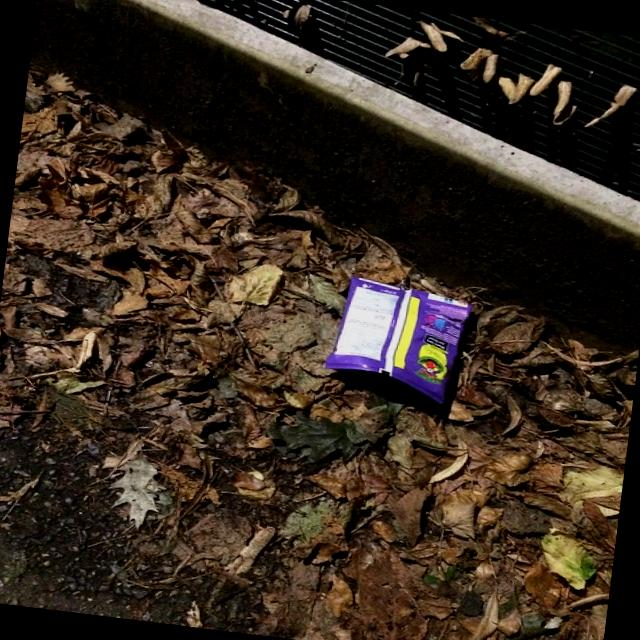Trash: (328, 268, 476, 414)
